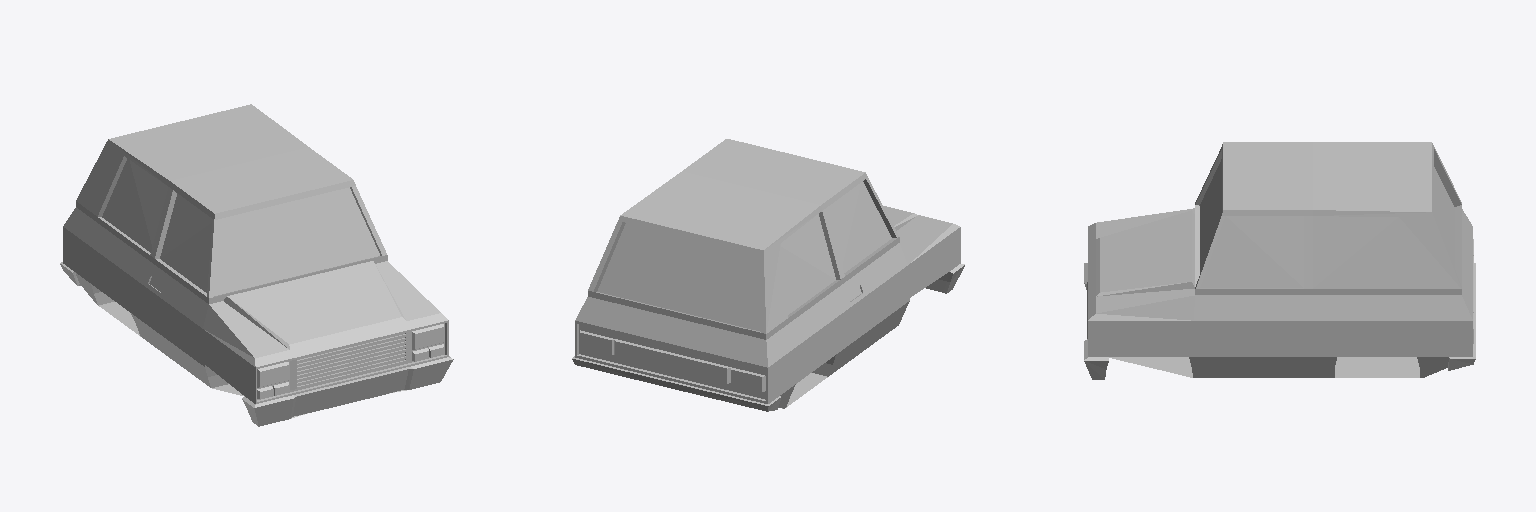
The model's file is car4.obj.
The picture shows the model from 3 angles: view 1: azimuth 30°, elevation 25°; view 2: azimuth 150°, elevation 25°; view 3: azimuth 270°, elevation 25°; orthographic projection.
Visible parts, largest first — view 1: Cube.001; view 2: Cube.001; view 3: Cube.001.
Part boxes in pixels (x1,y1,x2,y2): Cube.001: (60, 104, 453, 426); Cube.001: (572, 139, 964, 411); Cube.001: (1084, 142, 1475, 379).
Size of the model in its own units: 2.38 by 1.83 by 4.06.